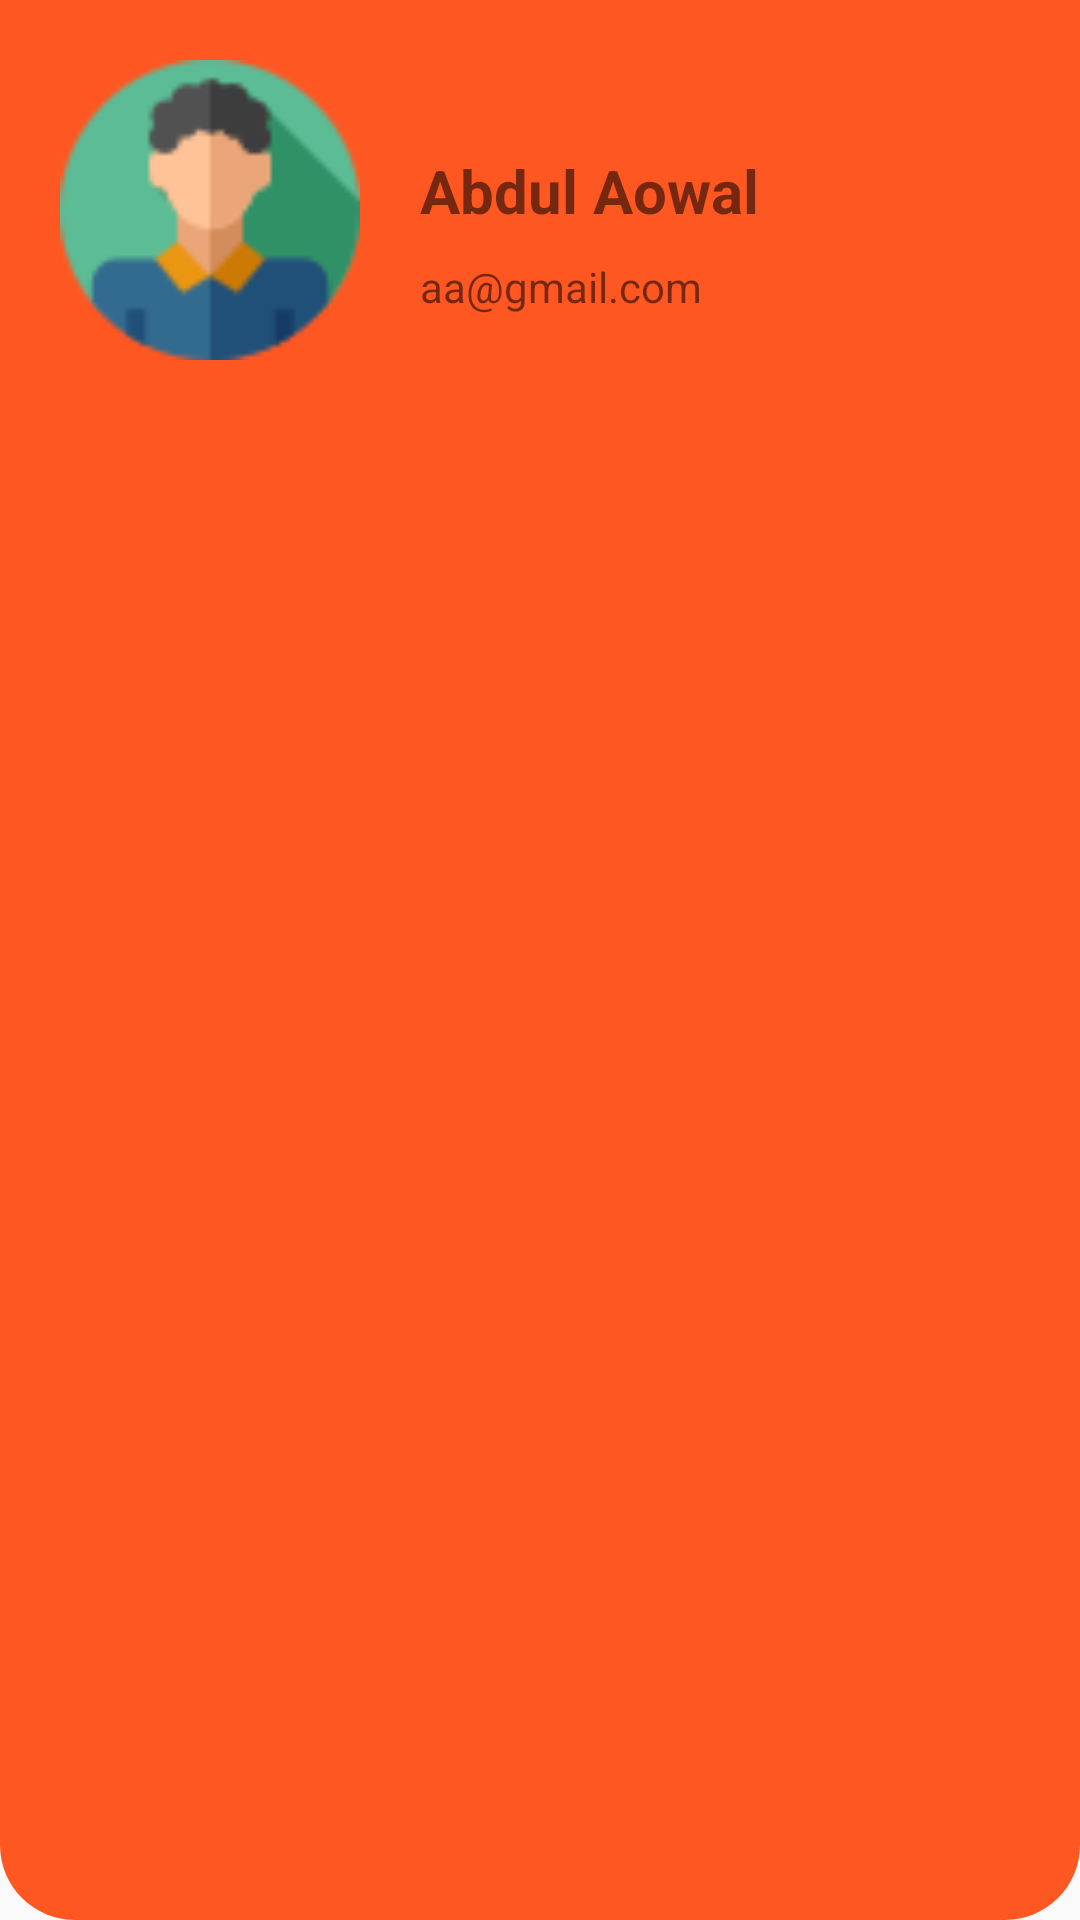

Icons on this 1080x1920 Android screen, each with its box as {"left": x1, "top": y1, "right": x2, "bottom": y2}:
user: {"left": 60, "top": 60, "right": 360, "bottom": 360}
